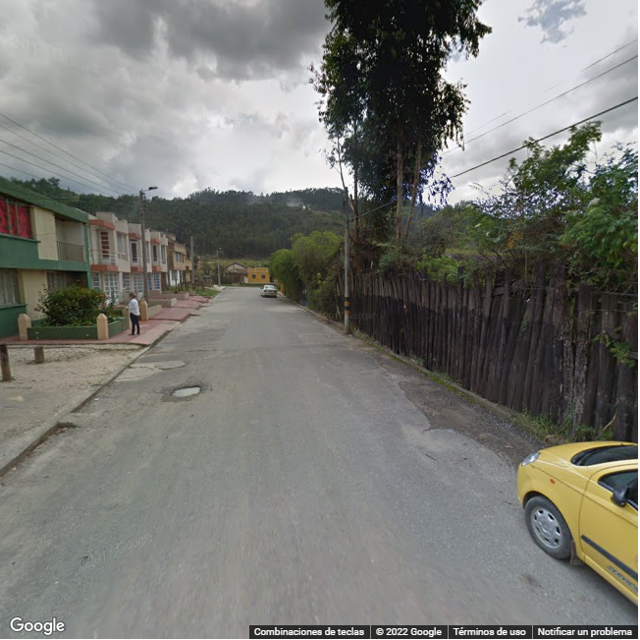D40: (163, 382, 201, 402)
